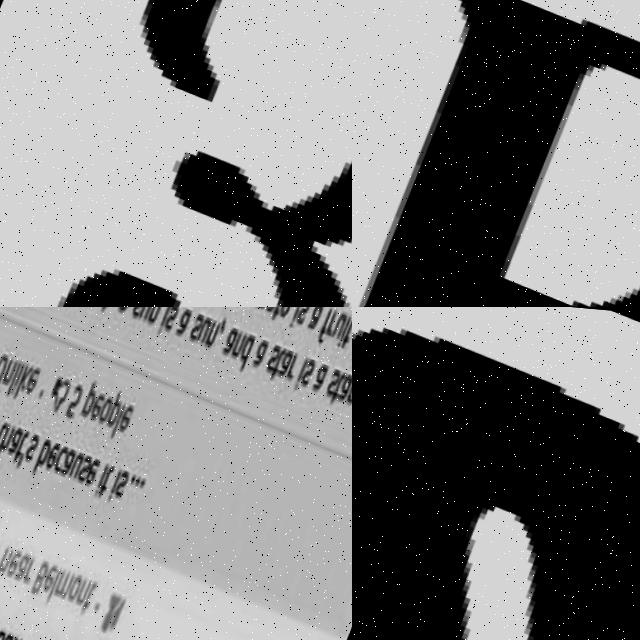1: (68, 375, 91, 415)
3: (0, 0, 352, 307)
A: (10, 419, 32, 454), (254, 326, 275, 360), (21, 543, 41, 577), (63, 439, 83, 473), (314, 350, 334, 384), (281, 339, 300, 370), (225, 317, 243, 349), (176, 307, 196, 332), (340, 361, 352, 392), (307, 307, 329, 323)
B: (363, 0, 640, 307), (37, 432, 59, 472), (38, 556, 58, 591)
C: (58, 438, 76, 469)
D: (238, 325, 260, 366)
E: (10, 542, 32, 578), (89, 449, 109, 483), (49, 435, 68, 466), (28, 360, 47, 391), (92, 386, 111, 417), (48, 559, 67, 589), (122, 397, 140, 428)
F: (318, 307, 338, 336)
H: (0, 419, 20, 459)
I: (99, 456, 116, 493), (297, 345, 314, 382), (15, 356, 31, 393), (114, 460, 128, 496), (339, 307, 352, 336), (160, 307, 173, 327), (292, 307, 305, 319)
K: (17, 357, 39, 397)
L: (114, 395, 131, 435), (54, 562, 70, 600), (10, 356, 26, 394)
M: (62, 562, 84, 593)
N: (233, 323, 251, 352), (3, 543, 21, 571), (6, 352, 24, 380), (207, 312, 225, 340), (82, 573, 99, 601), (148, 307, 166, 319), (14, 631, 32, 640)
O: (101, 388, 120, 418), (74, 570, 92, 598), (0, 536, 8, 566)
P: (84, 372, 107, 413), (110, 383, 131, 421)
R: (288, 341, 306, 372), (29, 549, 45, 579), (327, 307, 343, 327)
S: (267, 332, 286, 366), (29, 428, 48, 459), (82, 448, 101, 479), (119, 462, 137, 493), (328, 357, 346, 388), (190, 307, 209, 335), (304, 347, 321, 378), (165, 307, 184, 325), (0, 624, 16, 640), (295, 307, 314, 317)
T: (273, 336, 292, 373), (333, 359, 351, 396), (18, 425, 34, 462), (88, 576, 105, 609), (103, 460, 120, 493), (0, 415, 13, 452), (343, 307, 352, 338)
U: (352, 307, 640, 640), (73, 444, 92, 476), (0, 348, 13, 386), (199, 308, 216, 337), (332, 307, 350, 330), (5, 627, 23, 640), (140, 307, 158, 314)
W: (26, 633, 50, 640)
